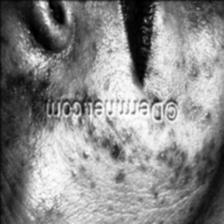Non-Cancerous Skin Condition: (0, 68, 46, 140), (188, 0, 223, 79), (91, 116, 136, 162), (160, 152, 164, 158)
